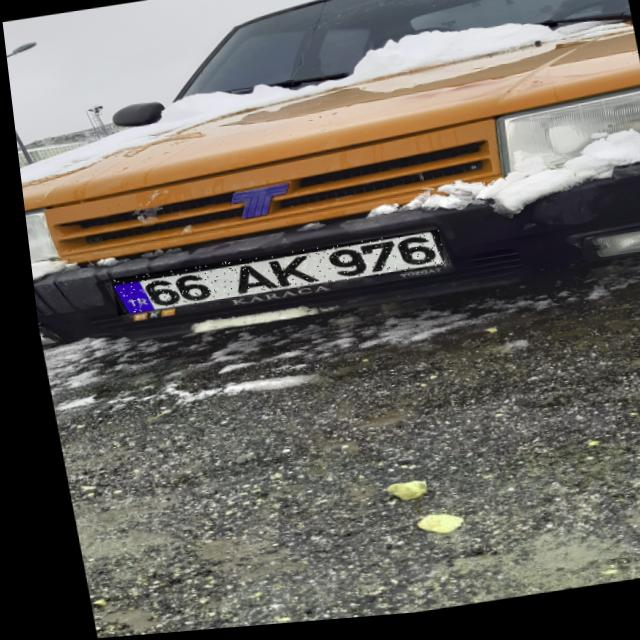license_plate: (101, 236, 440, 317)
